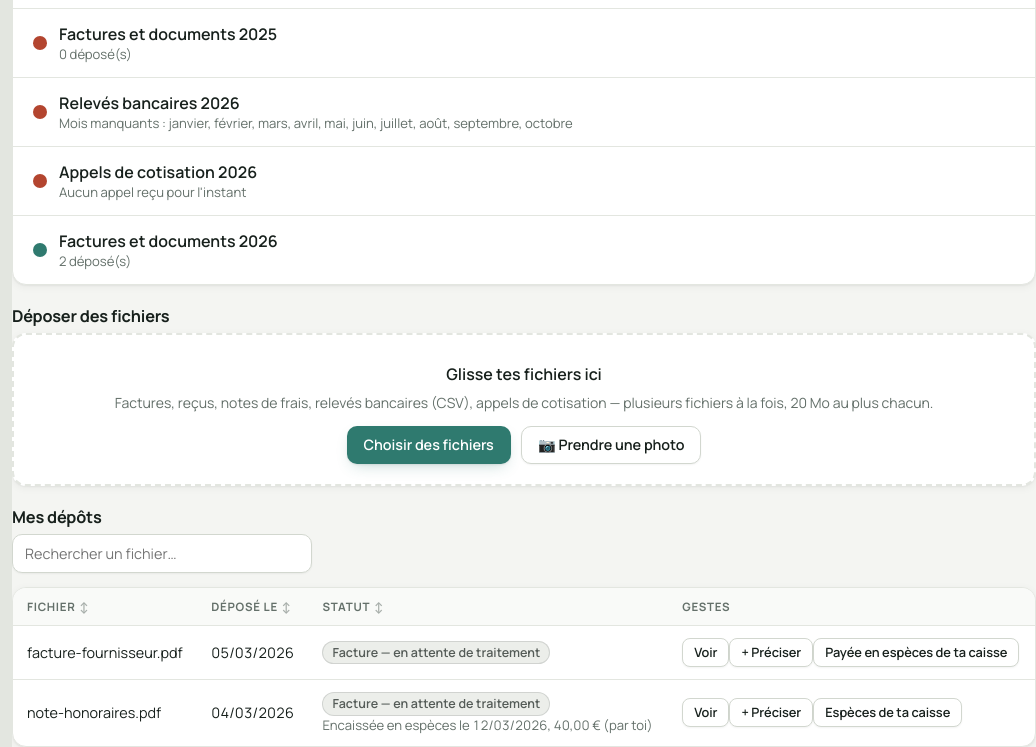
le drapeau levé › un paiement saisi avant la citation : « Retirer » reste, « Corriger » ne s’offre pas
(page scrolled)
Expected: the text "facture-fournisseur.pdf" is shown, [13,625,197,680]
What coordinates should you click on to do the following:
click the button "Espèces de ta caisse"
I would click on:
 (888, 713)
Its box is [813,698,962,727].
(page scrolled)
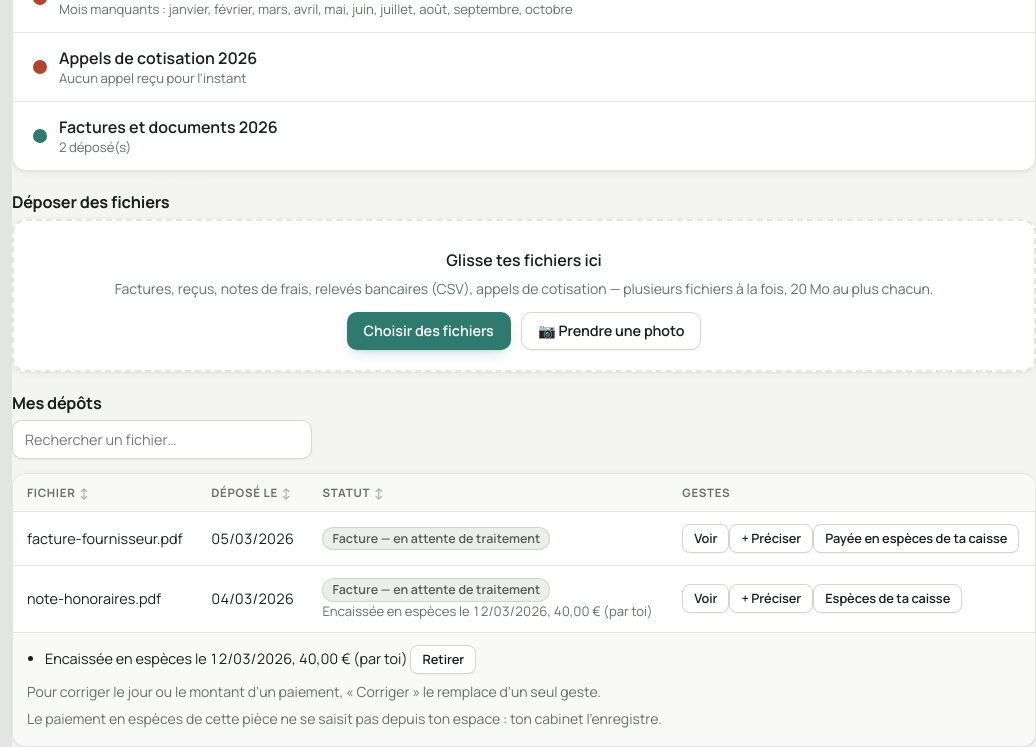
Now the button "Retirer" is shown, box [410,644,476,674]
Now the text "Le paiement en espèces de cette pièce ne se saisit pas depuis ton espace : ton cabinet l'enregistre." is shown, box [27,709,662,728]
